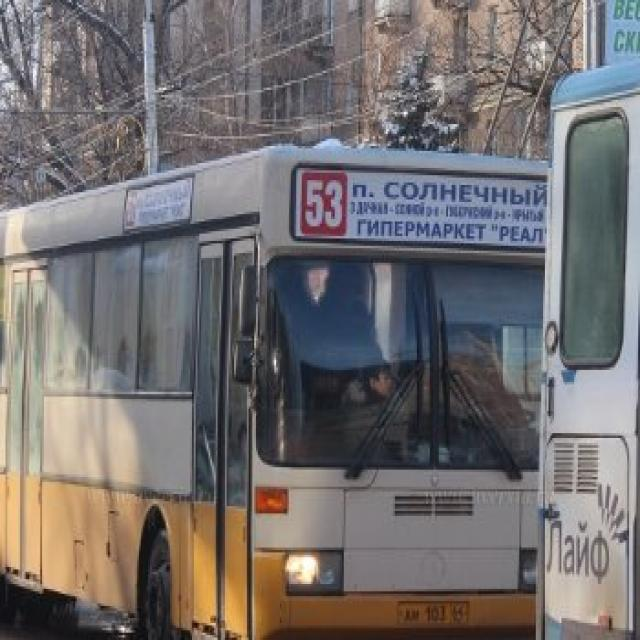number-of-bus: (303, 174, 349, 236)
